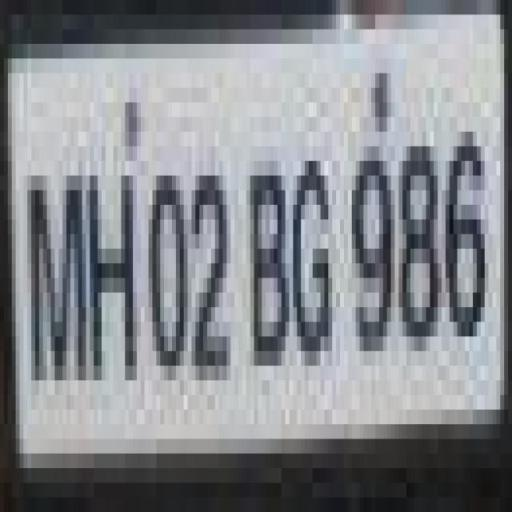number plate: (18, 0, 510, 468)
